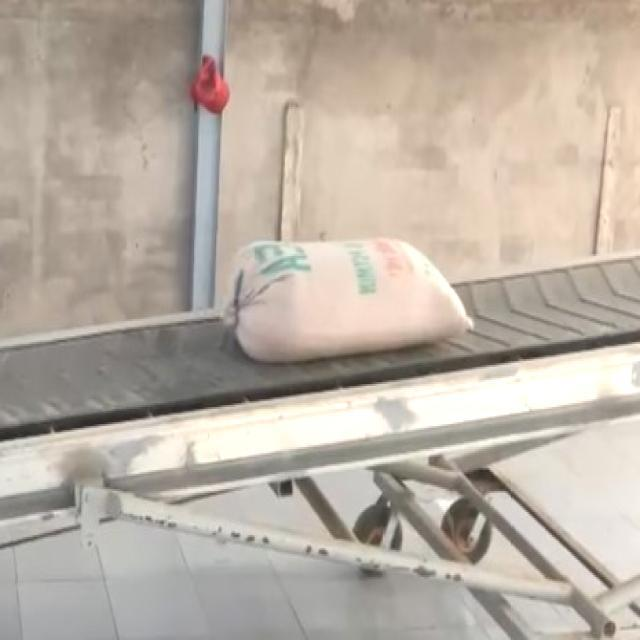gunny_bag: (230, 243, 472, 362)
